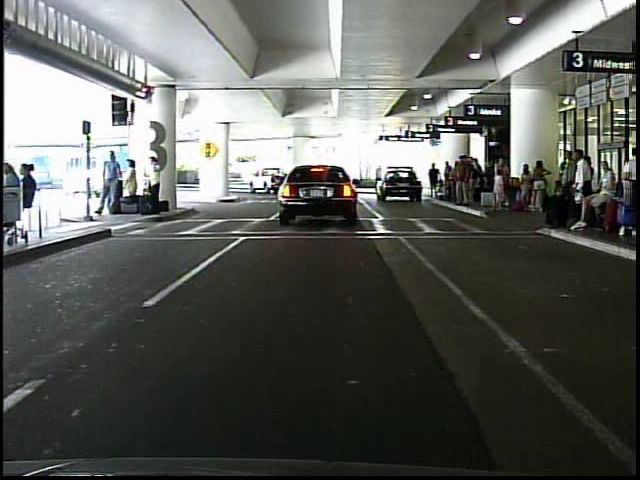person: (95, 149, 126, 221), (146, 153, 164, 216), (123, 158, 143, 211), (428, 162, 441, 200)
